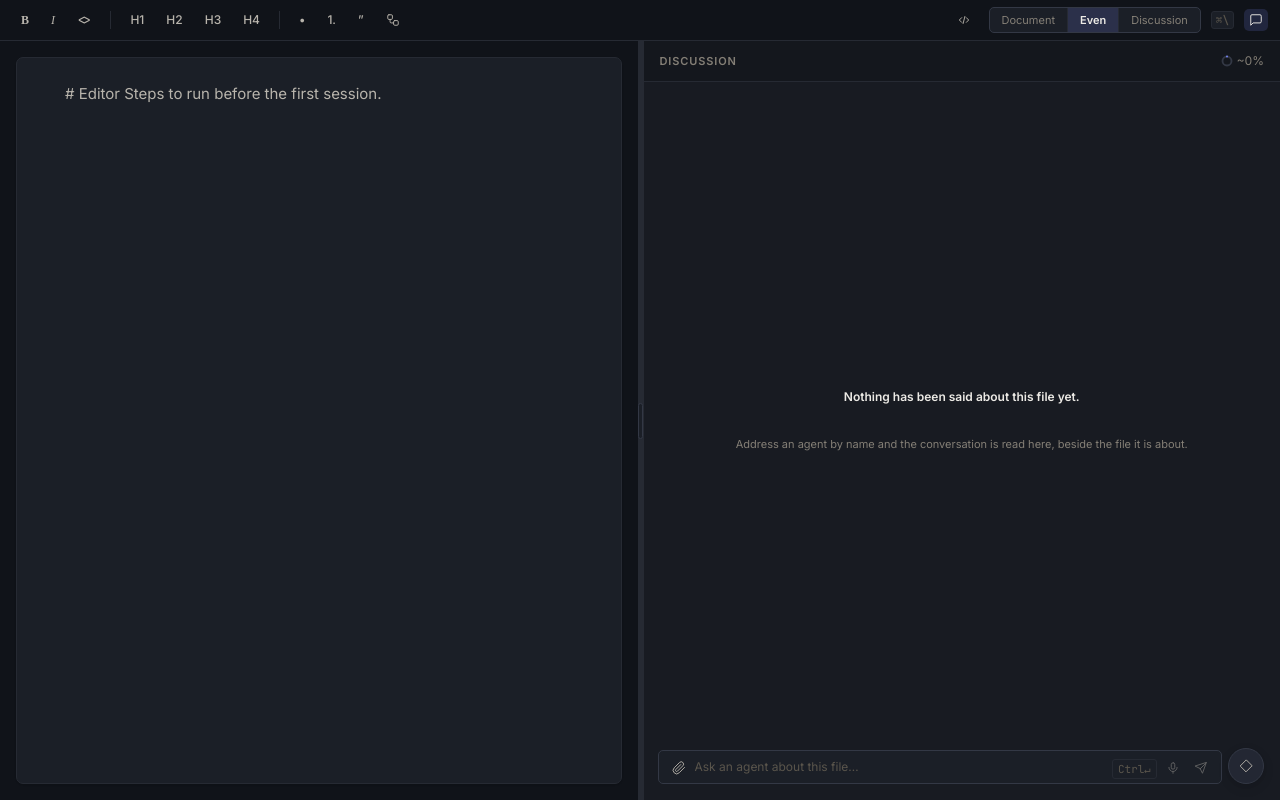
Test: ACT-FR-BRZK: Discuss acts on the discussion column › ACT-FR-BRZK, ACT-FR-19, ACT-FR-23, CMT-FR-53: with the column shown, Discuss is disabled and says why, and the column holds the opening composer
expect the element with test id "editor-discussion-column" is shown: met, box [642, 41, 1279, 799]
What coordinates should you click on to do the following:
click the button named "Actions"
I would click on:
 (1246, 766)
Its box is [1228, 748, 1264, 784].
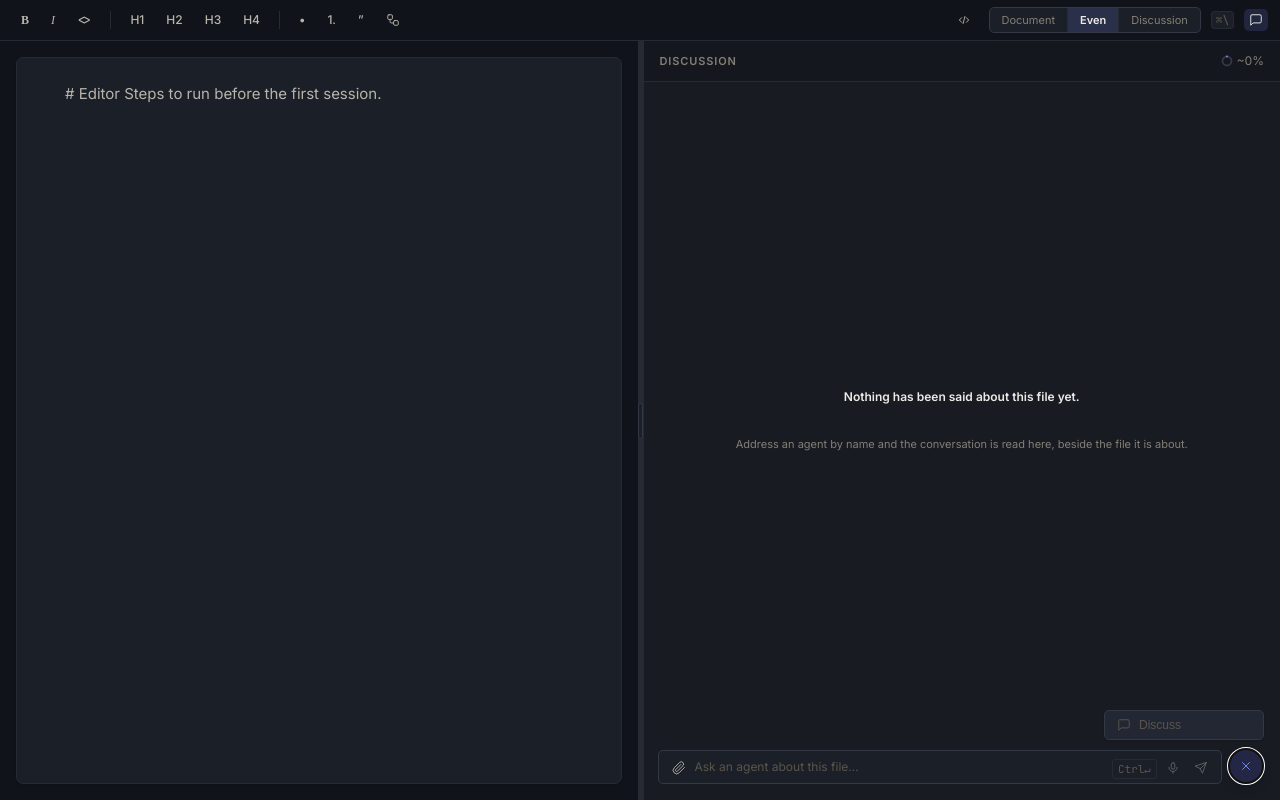
expect the menu item "Discuss" is disabled: met, box [1104, 710, 1264, 740]
